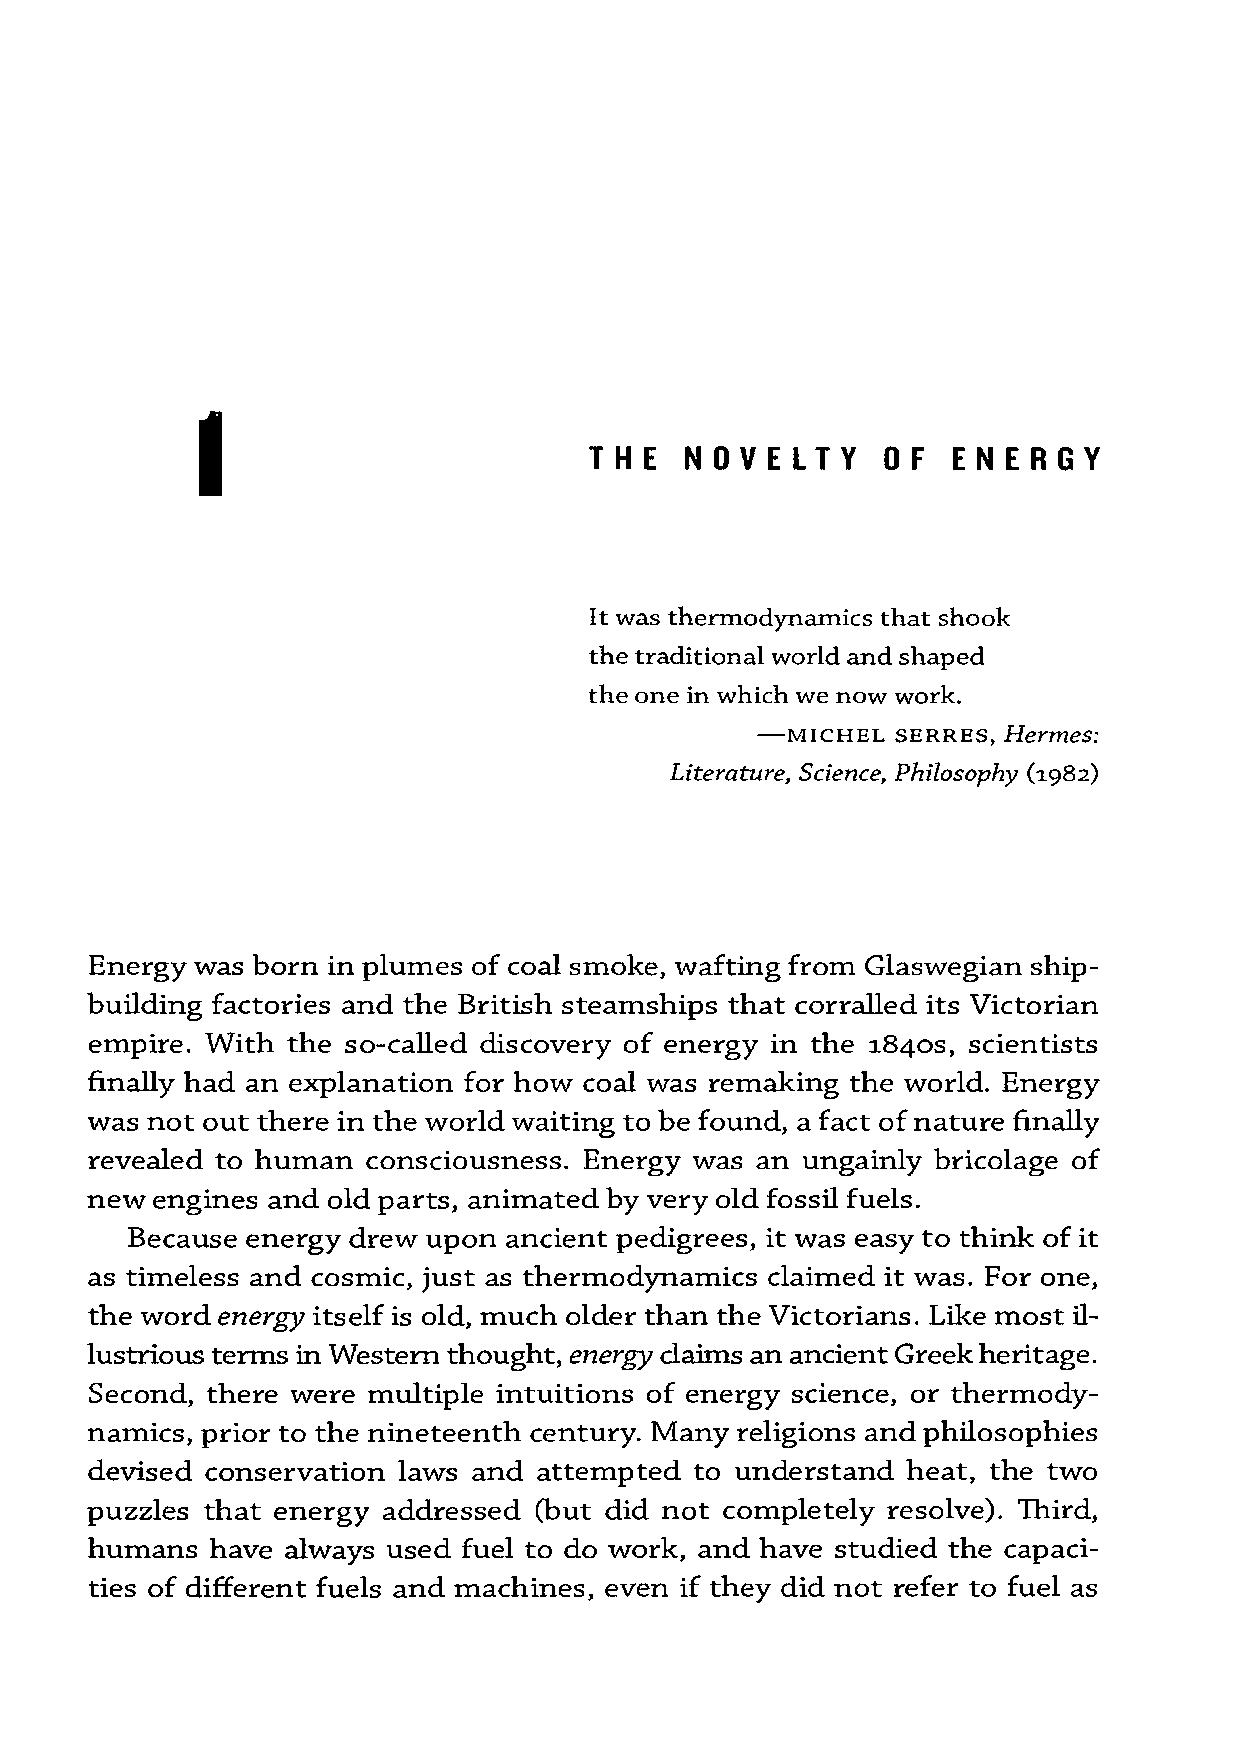chapter: (586, 440, 1103, 476)
content: (87, 950, 1100, 1608), (586, 603, 1100, 790)
